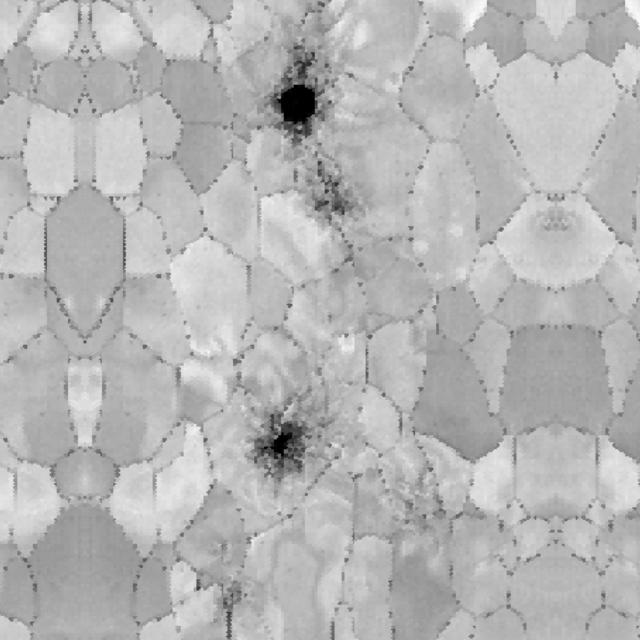good_void: (268, 57, 349, 160), (240, 410, 327, 494), (387, 459, 447, 535), (183, 561, 254, 614), (308, 166, 356, 222)
